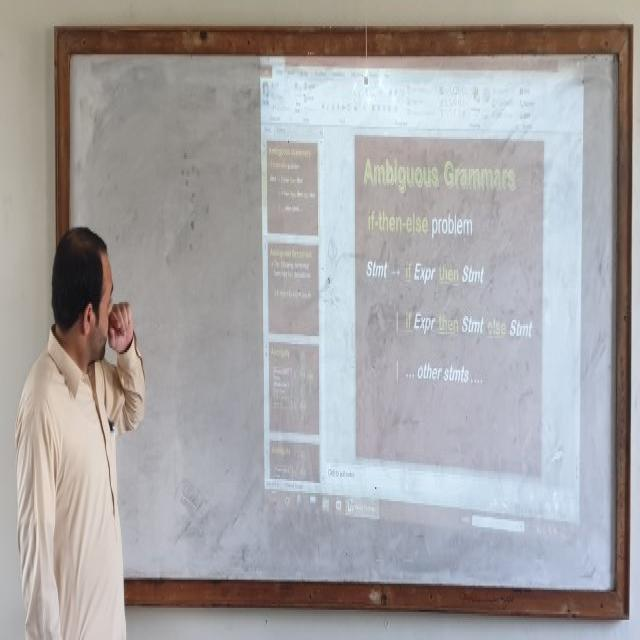Instructor: (24, 215, 130, 602)
Slide: (263, 47, 583, 545)
White-board: (64, 40, 626, 611)
